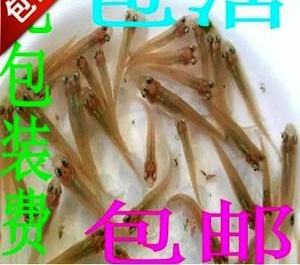fry: (170, 193, 233, 265), (270, 116, 300, 225), (82, 87, 130, 150), (134, 73, 194, 122), (220, 168, 263, 236), (220, 36, 260, 108), (56, 69, 88, 154), (1, 95, 26, 200), (54, 157, 101, 212), (35, 175, 67, 239), (64, 224, 116, 262), (117, 189, 156, 235), (180, 68, 220, 112), (14, 55, 60, 93), (193, 16, 223, 74), (14, 88, 49, 137), (14, 173, 41, 234), (135, 119, 159, 187), (227, 131, 269, 169), (149, 44, 205, 72), (94, 44, 120, 104), (140, 15, 190, 46), (175, 118, 200, 178), (257, 164, 278, 230), (66, 24, 114, 51), (116, 7, 142, 54), (75, 53, 99, 94)
